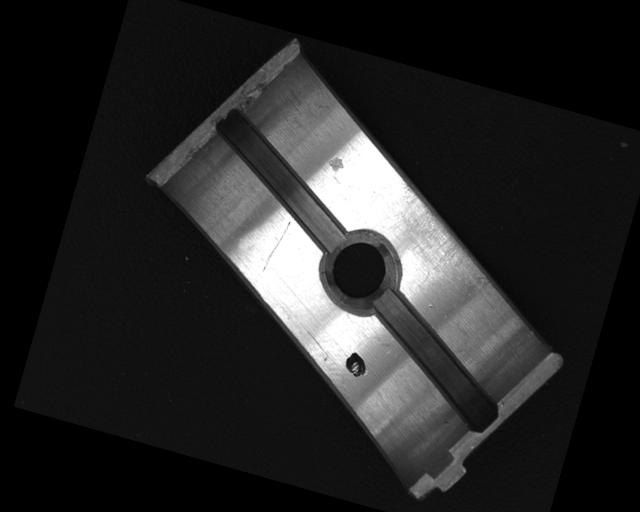blot: (341, 349, 370, 380)
bruise: (325, 153, 347, 175)
gap: (190, 104, 370, 257), (346, 285, 521, 435)
hole: (308, 220, 411, 323)
nick: (259, 216, 291, 277)
scratch: (376, 178, 522, 302)
